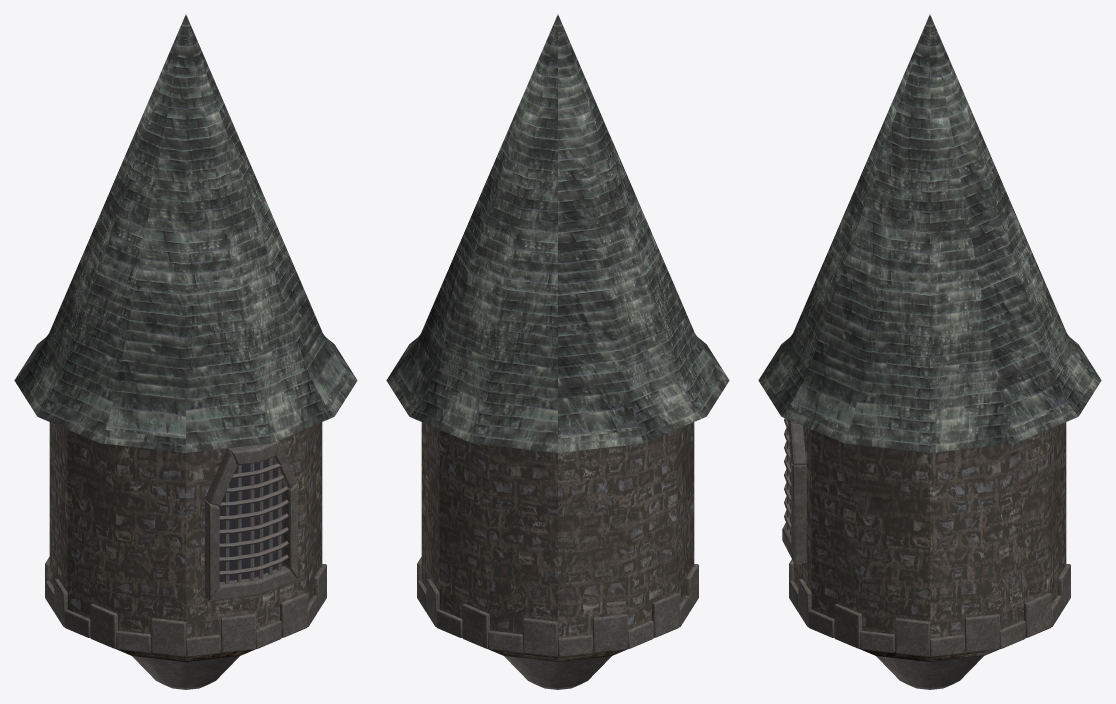
File: ConeRoofCorner.fbx
3 views of the same model, side by side, from view 1: azimuth 30°, elevation 25°; view 2: azimuth 150°, elevation 25°; view 3: azimuth 270°, elevation 25° (orthographic).
Parts seen in each view (by area): view 1: Cone Roof Corner; view 2: Cone Roof Corner; view 3: Cone Roof Corner.
Boxes of the visible parts, x1,y1,x2,y2 form: Cone Roof Corner: [14, 14, 357, 689]; Cone Roof Corner: [386, 14, 729, 689]; Cone Roof Corner: [758, 14, 1101, 689].
Bounding box in the file's own units: 337 × 722 × 337.
